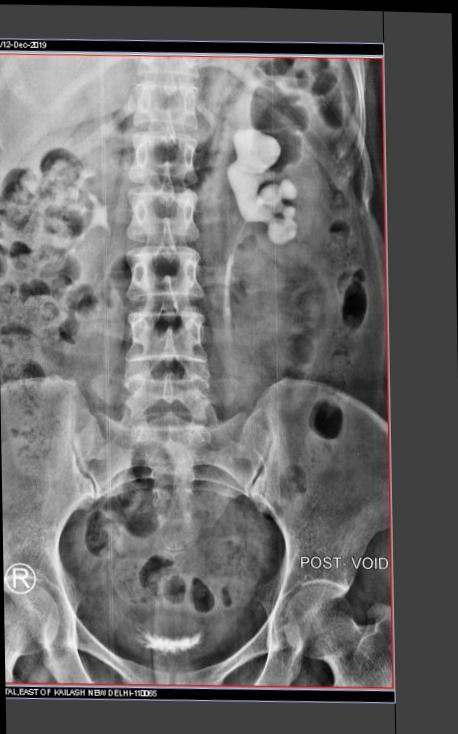vertebrae: (160, 102, 241, 167)
